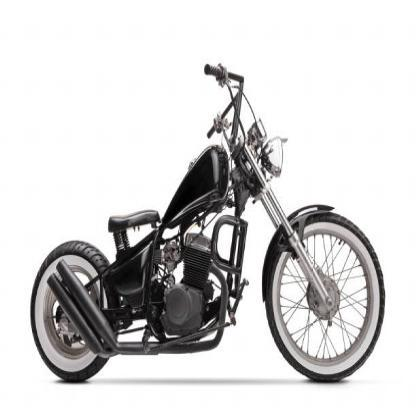Motorcycle: (28, 46, 387, 388)
